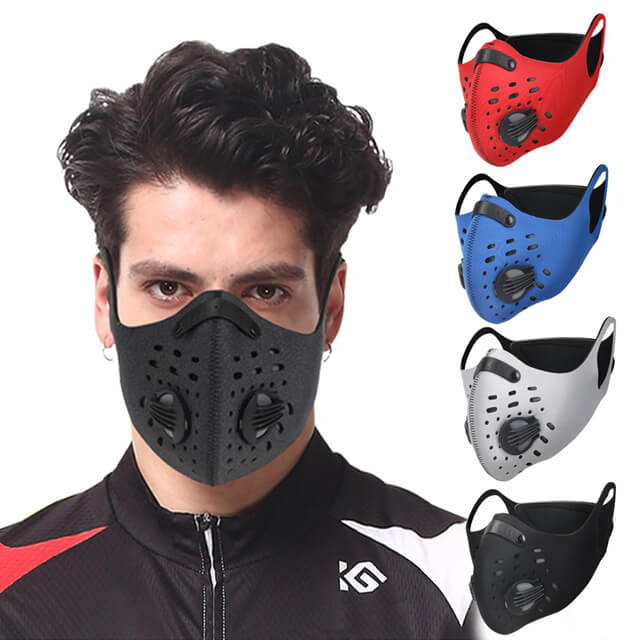Mask: (109, 179, 316, 490)
